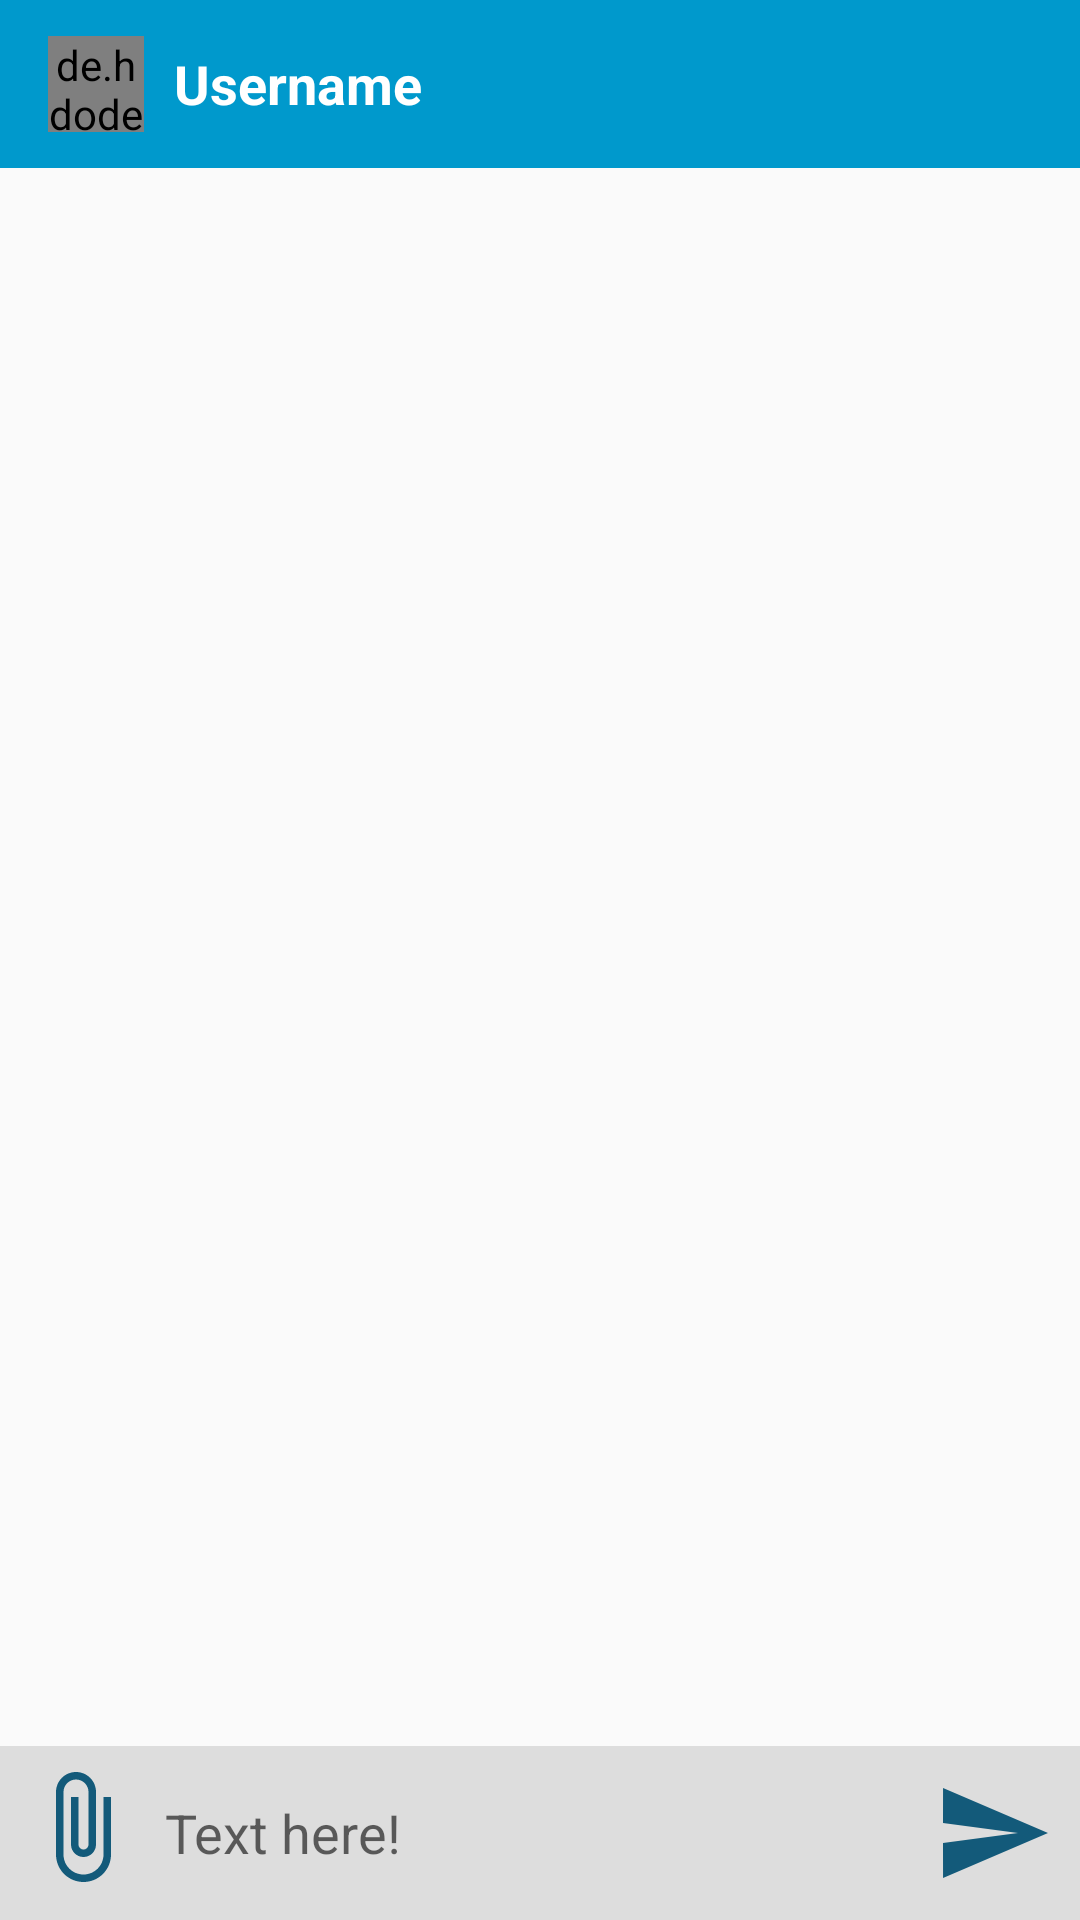

Screen size 1080 × 1920. Icon name, then its box in pixels as (x1, y1, x2, y2):
attach file: (56, 1772, 111, 1882)
send: (943, 1788, 1048, 1878)
